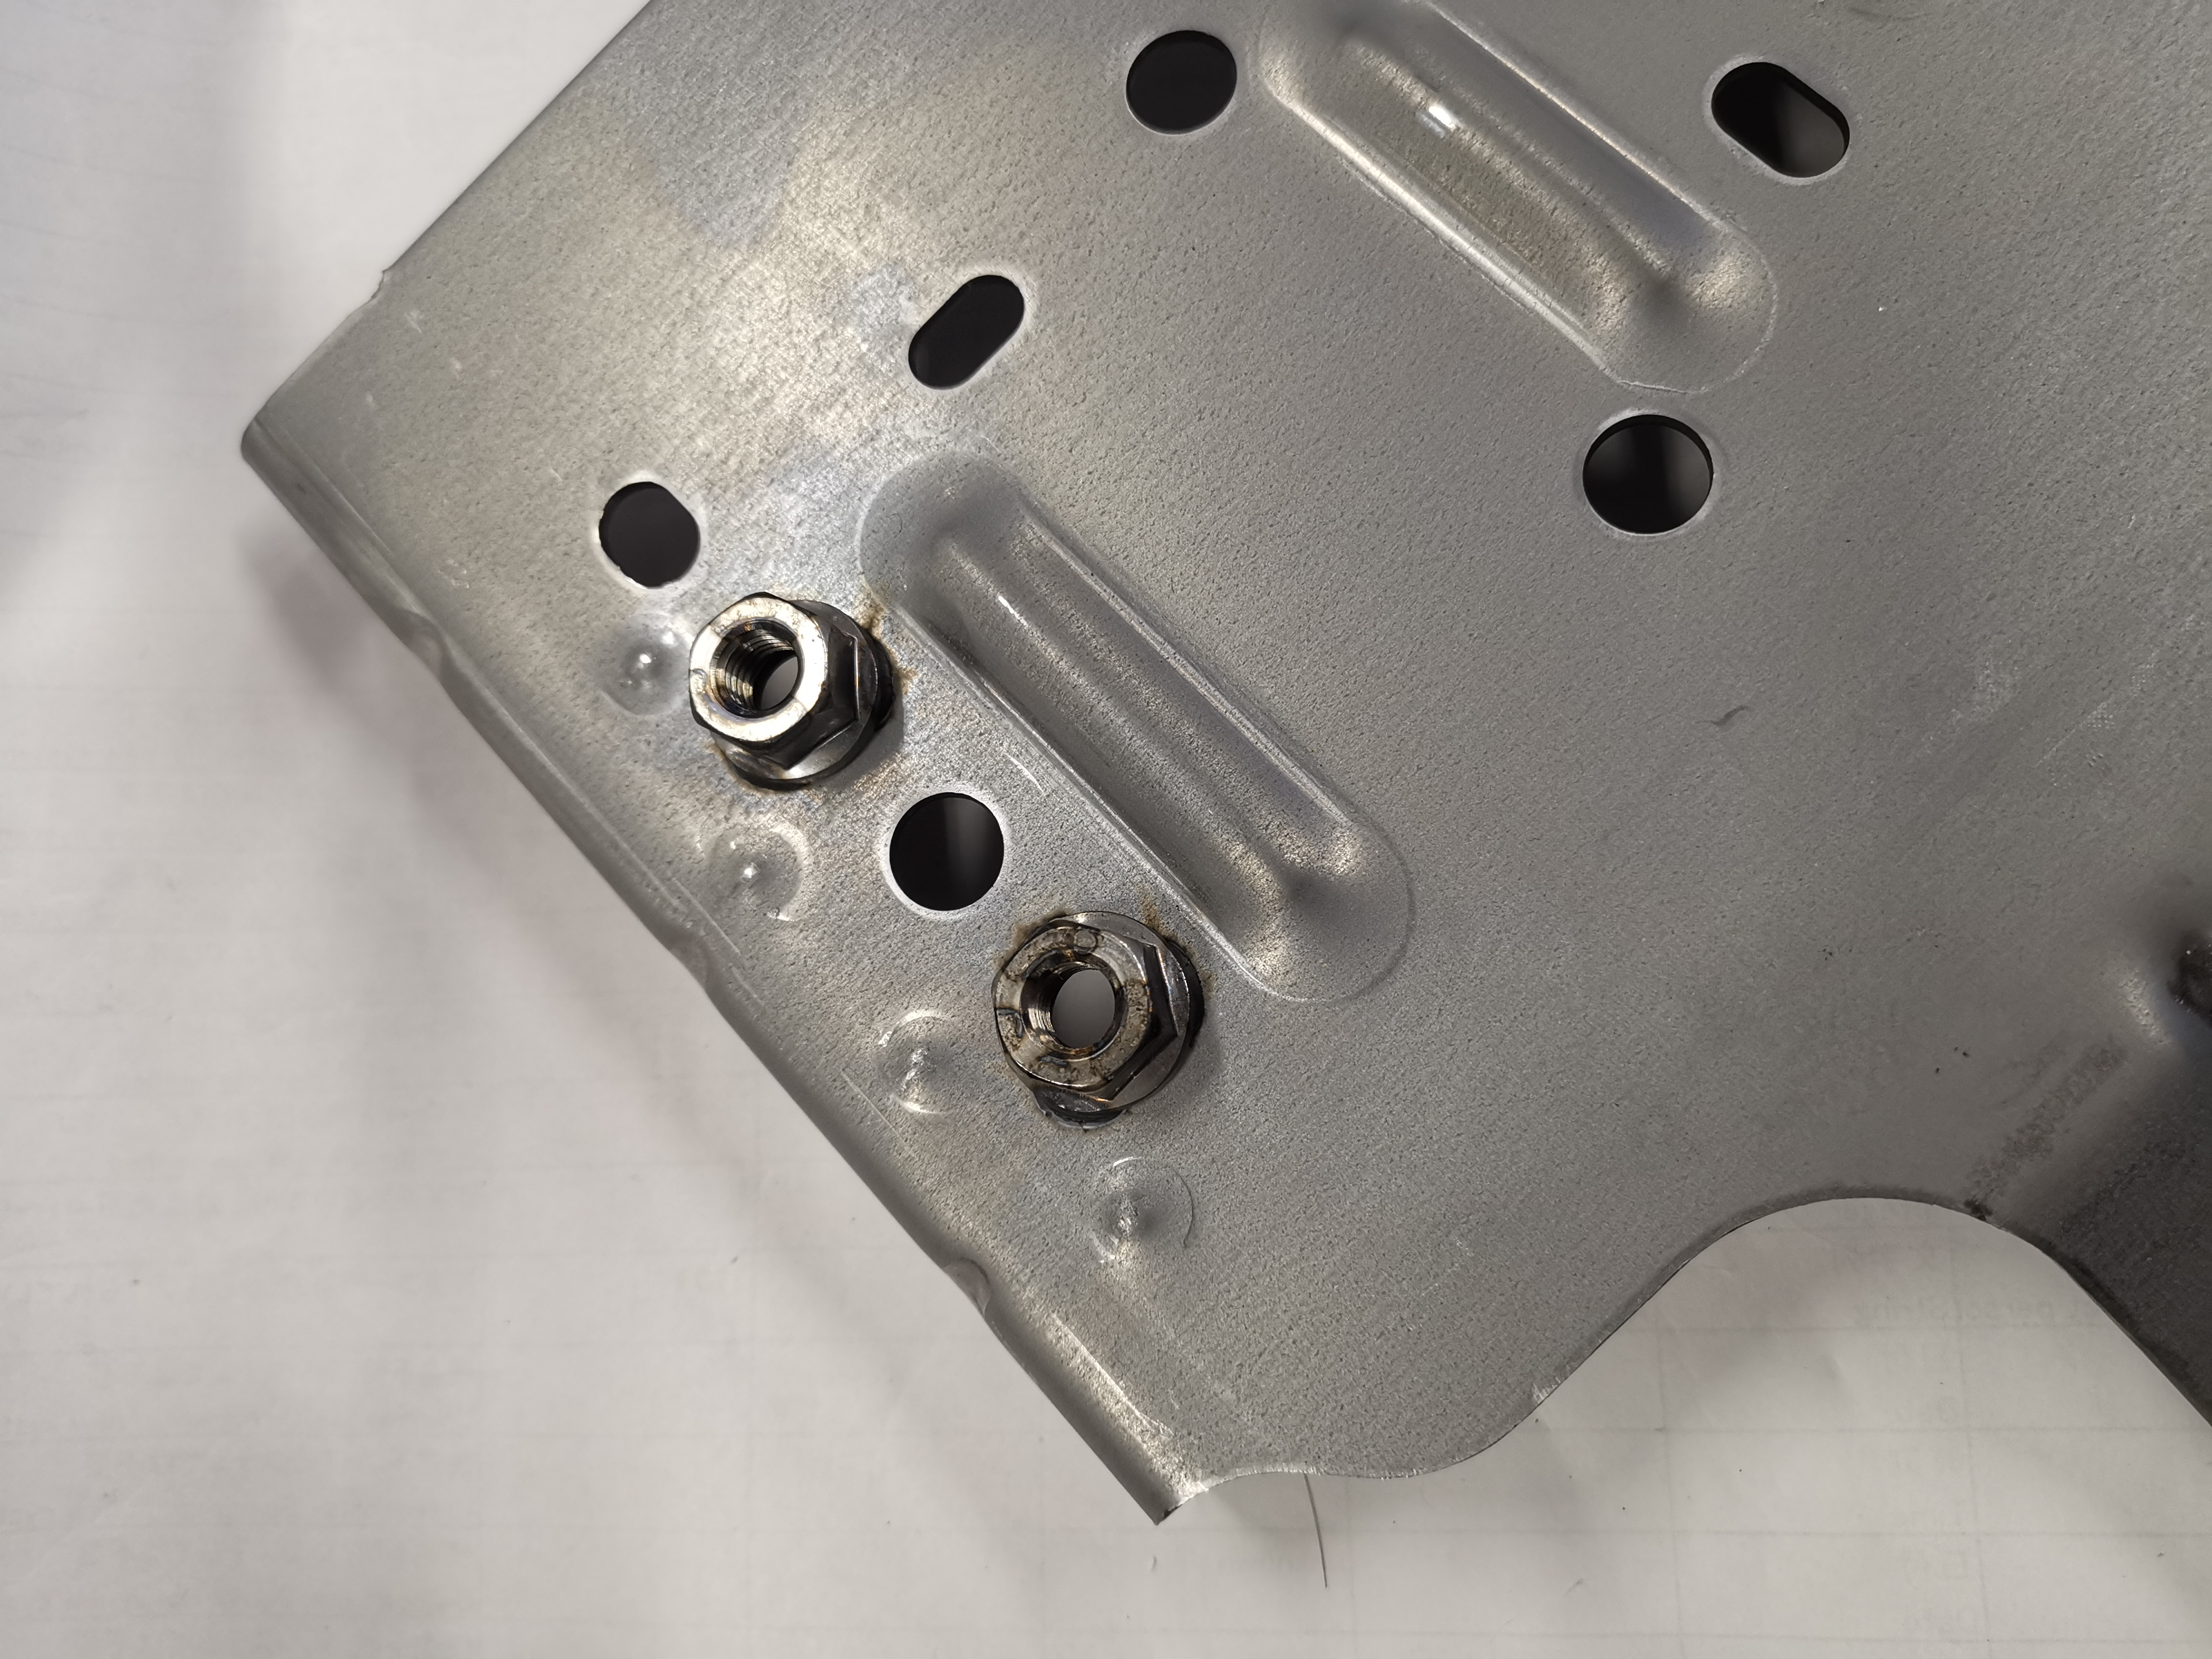dog: (988, 899, 1211, 1133), (683, 587, 899, 795)
